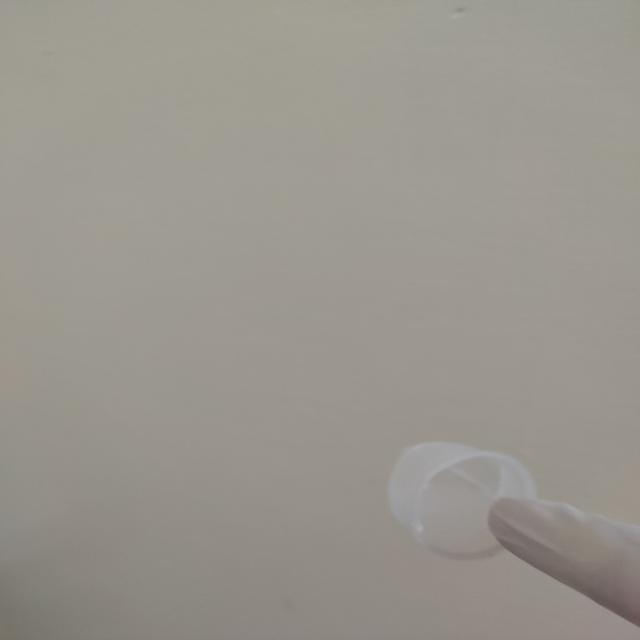B3: (389, 443, 536, 560)
